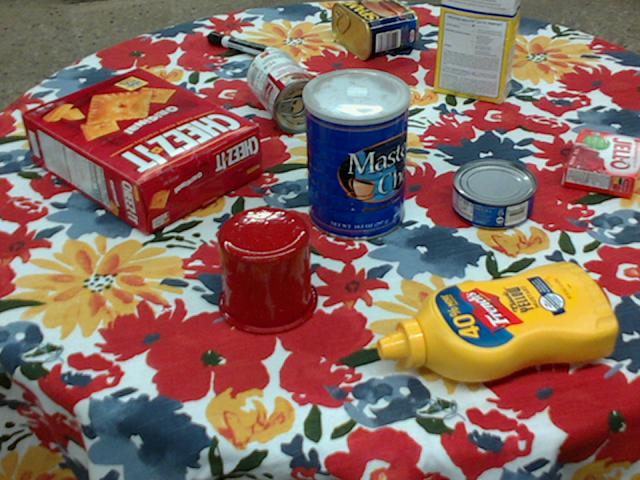cracker_box: (24, 68, 262, 232)
gelatin_box: (561, 129, 639, 199)
large_marker: (208, 30, 281, 60)
master_chef_can: (302, 67, 409, 241)
mug: (216, 206, 318, 334)
mustard_bottle: (378, 258, 619, 380)
potted_meat_can: (331, 0, 418, 58)
sugar_box: (433, 0, 522, 104)
tomato_soup_can: (246, 48, 328, 132)
tuna_fish_can: (453, 159, 538, 229)
